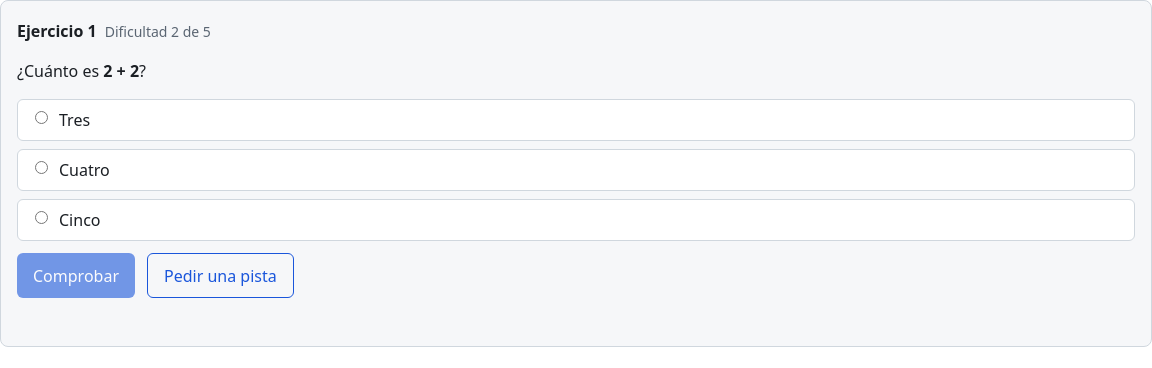
ExerciseCard › state and errors › tells the user to wait when they are rate limited
Click the radio button labelled "Tres": x=42, y=118 [35,111,48,124]
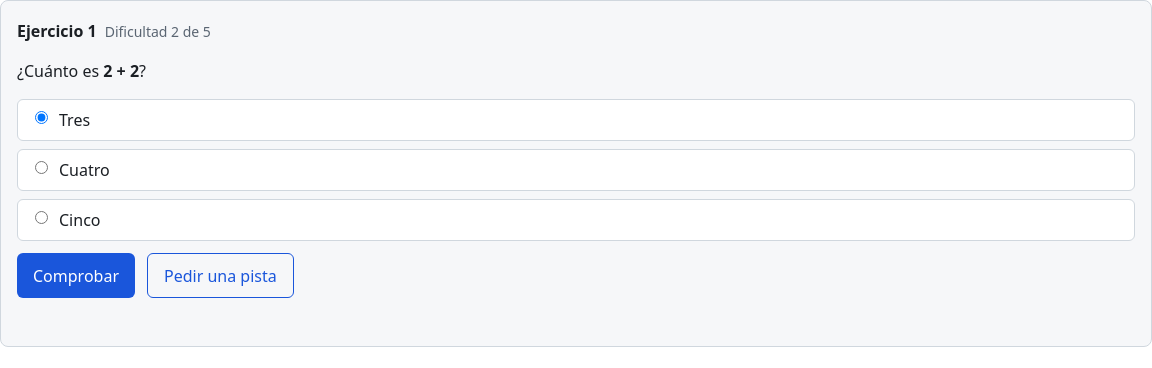
Click the button "Comprobar": x=76, y=276 [17,253,135,298]
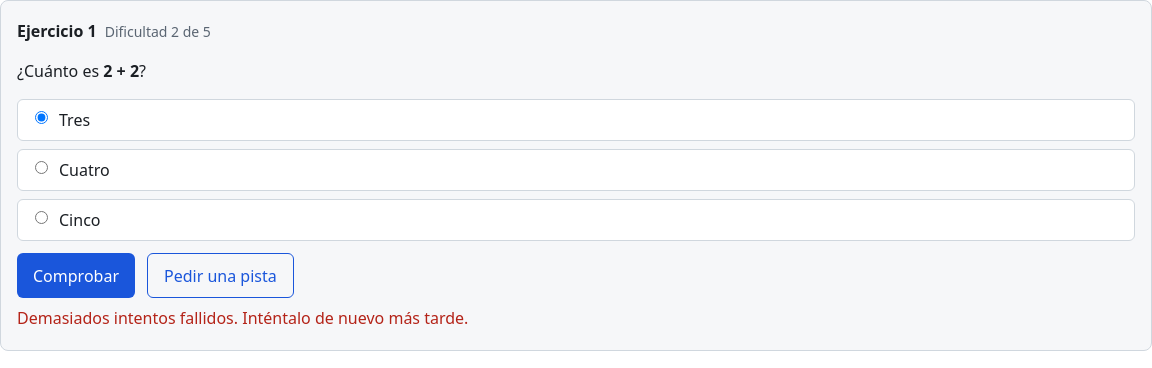
Expected: the text with class "form-error" shows "Demasiados intentos", [17,307,468,329]
